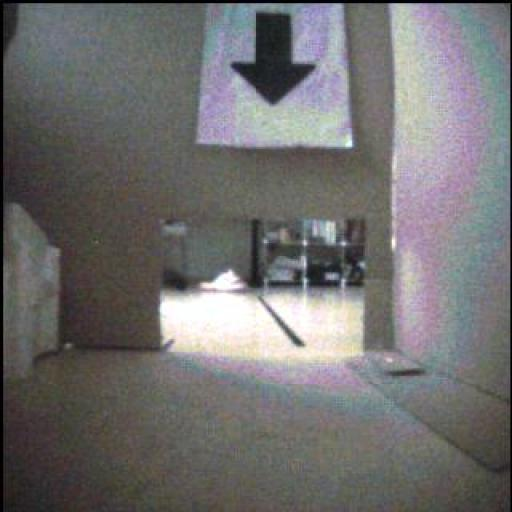arrow: (232, 14, 317, 105)
